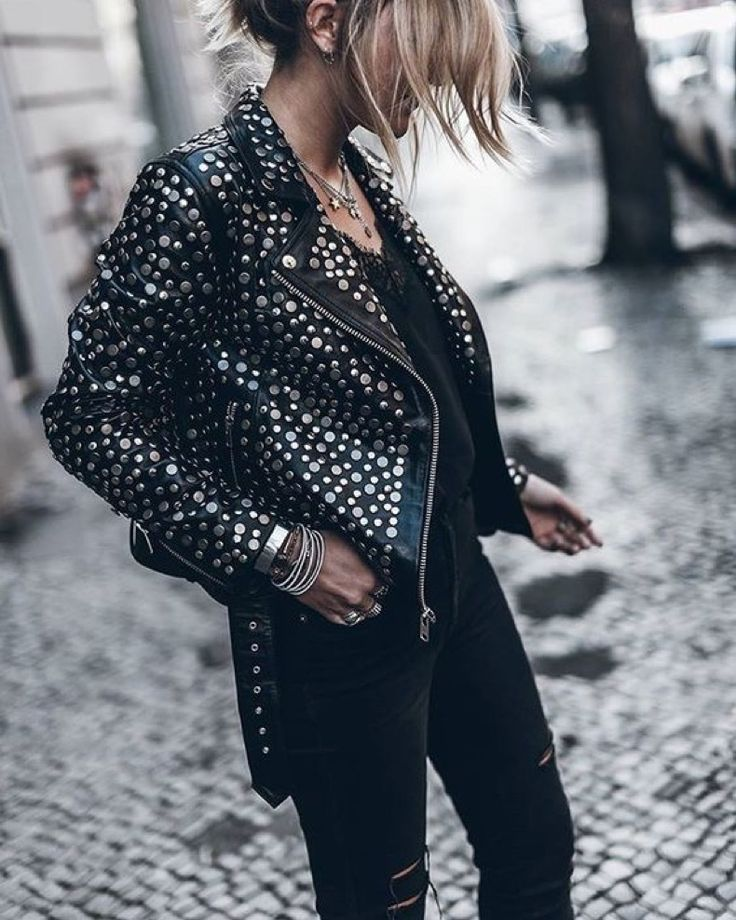cuero: (39, 89, 539, 636)
